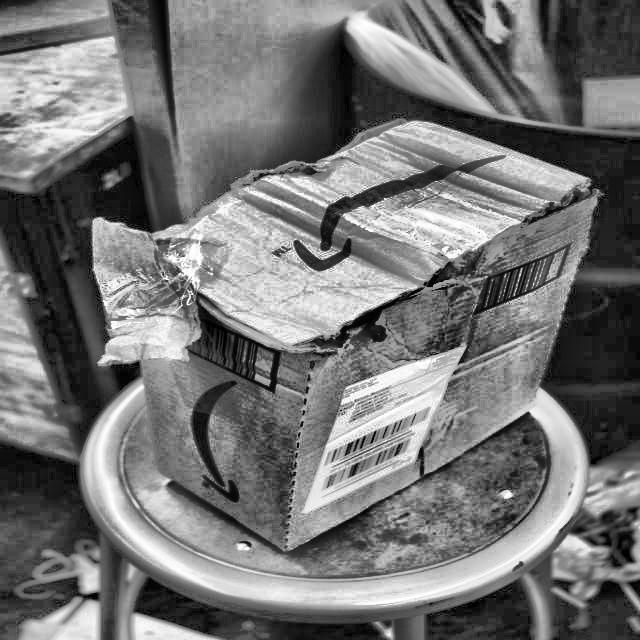box: (82, 99, 609, 561)
hole: (318, 304, 387, 352)
